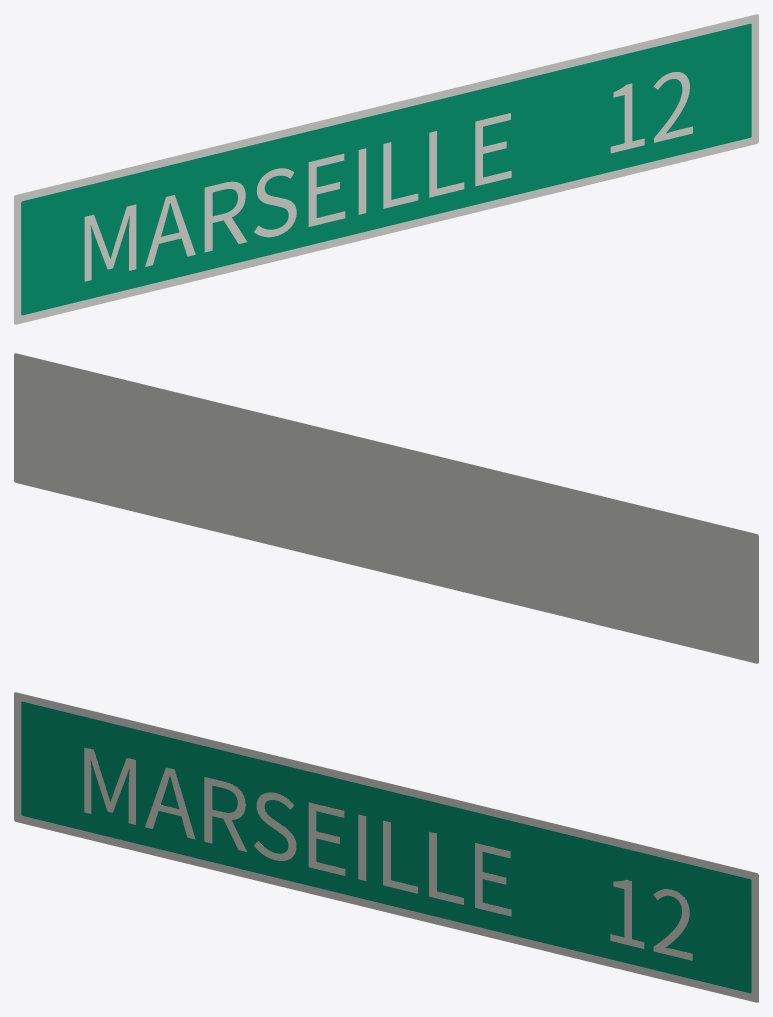
3 renders of one model, top to bottom at view 1: azimuth 30°, elevation 25°; view 2: azimuth 150°, elevation 25°; view 3: azimuth 330°, elevation 25°, orthographic.
Visible parts, largest first — view 1: D60_reg01, D60_lis00, D60_txt02, D60_txt03; view 2: D60_lis00; view 3: D60_reg01, D60_lis00, D60_txt02, D60_txt03.
Boxes of the visible parts, box(x1,y1,x2,y2) form: D60_reg01: box(21, 23, 751, 315); D60_lis00: box(14, 14, 758, 324); D60_txt02: box(84, 113, 511, 281); D60_txt03: box(610, 72, 692, 153); D60_lis00: box(14, 353, 758, 663); D60_reg01: box(21, 701, 751, 993); D60_lis00: box(14, 692, 758, 1002); D60_txt02: box(84, 747, 511, 916); D60_txt03: box(610, 880, 692, 960).
Bounding box in the file's own units: 3.85 × 0.64 × 0.0016.
